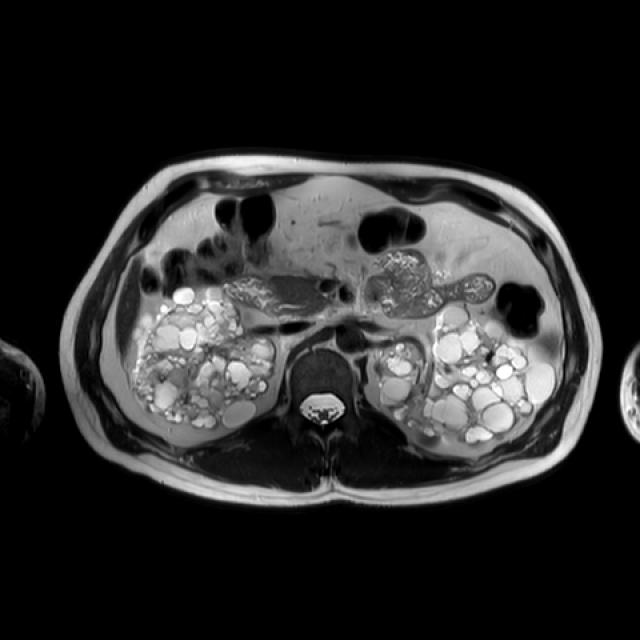sag: (130, 285, 277, 432)
sol: (375, 302, 555, 447)
